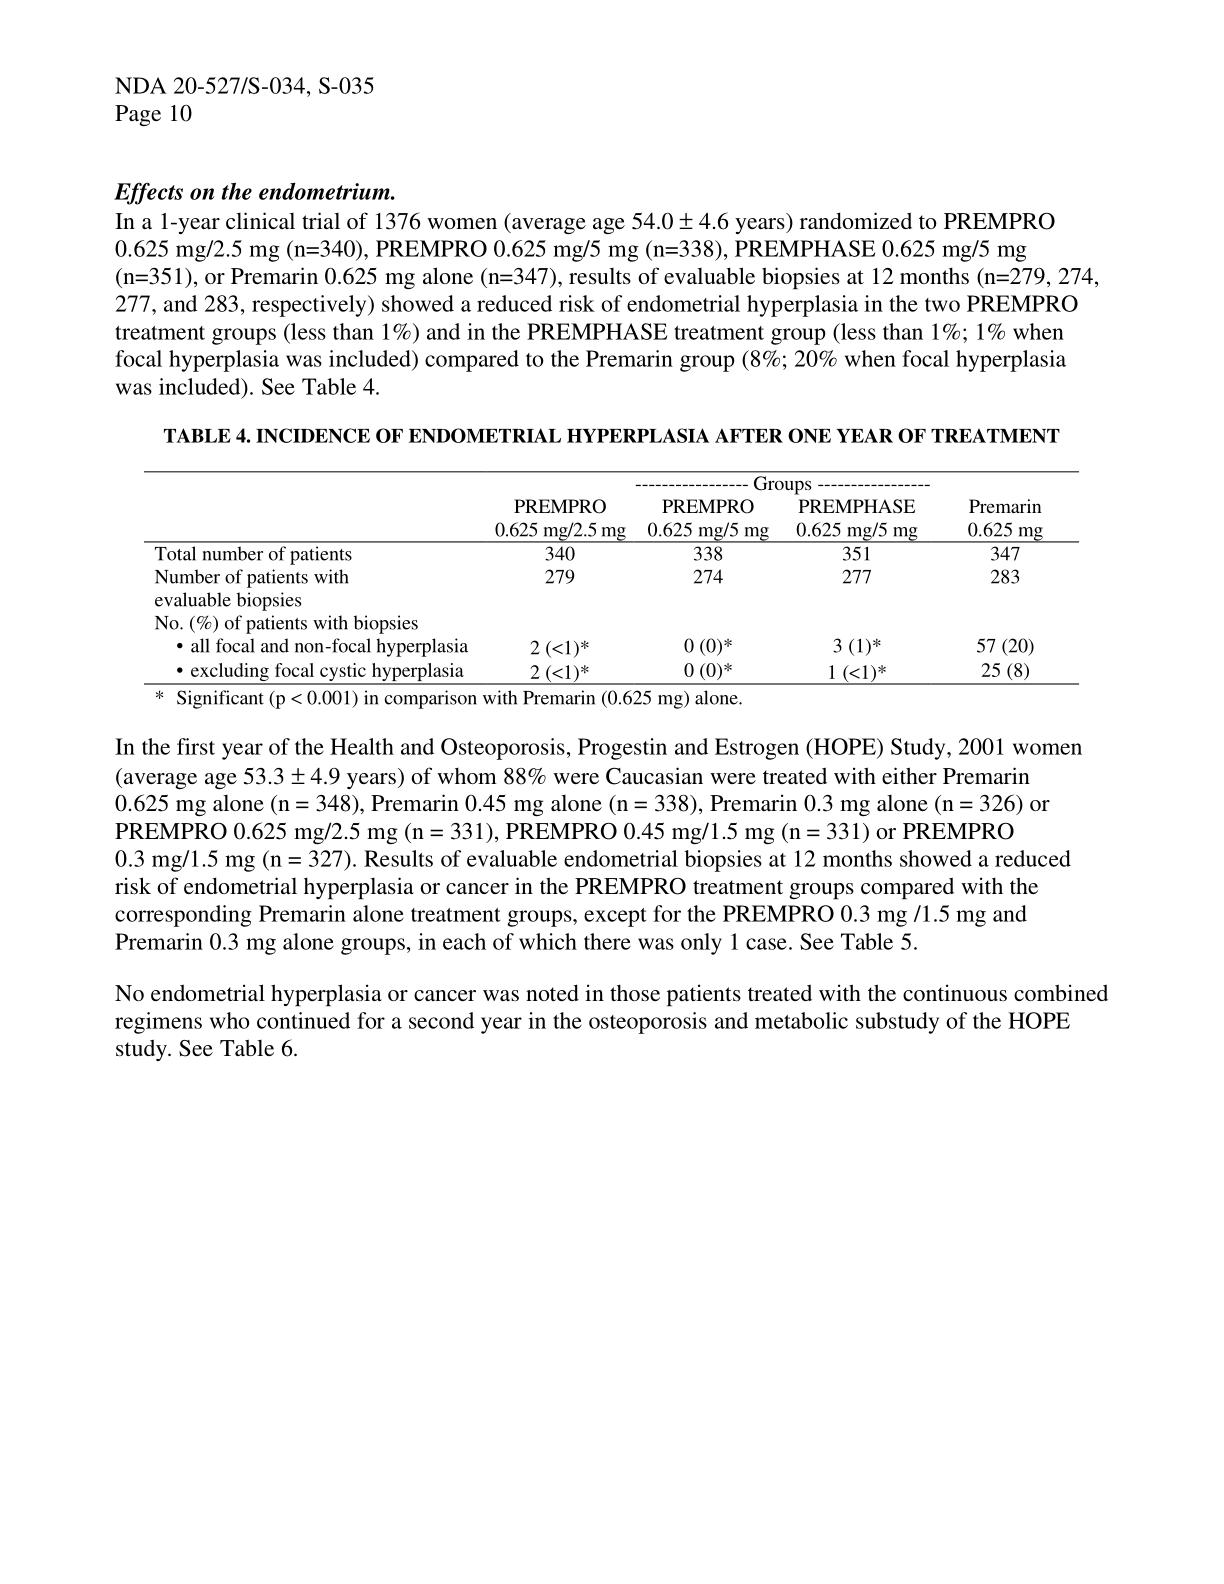partial_lined_merged_cells: (141, 467, 1083, 688)
